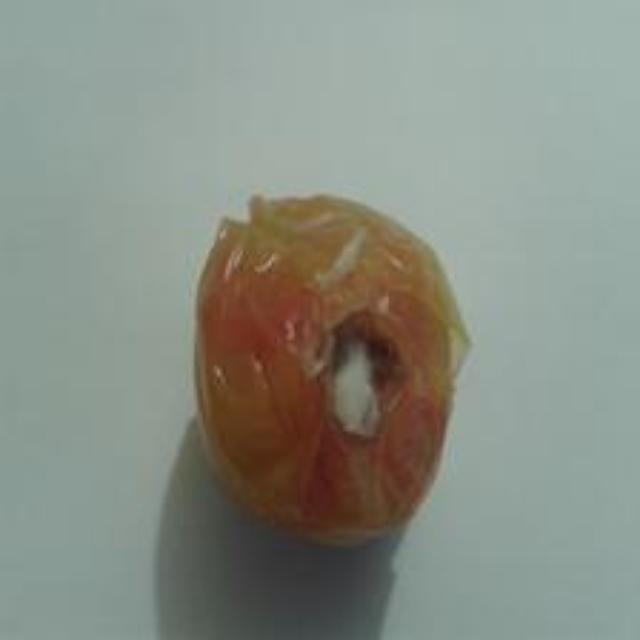defect: (177, 174, 481, 565)
